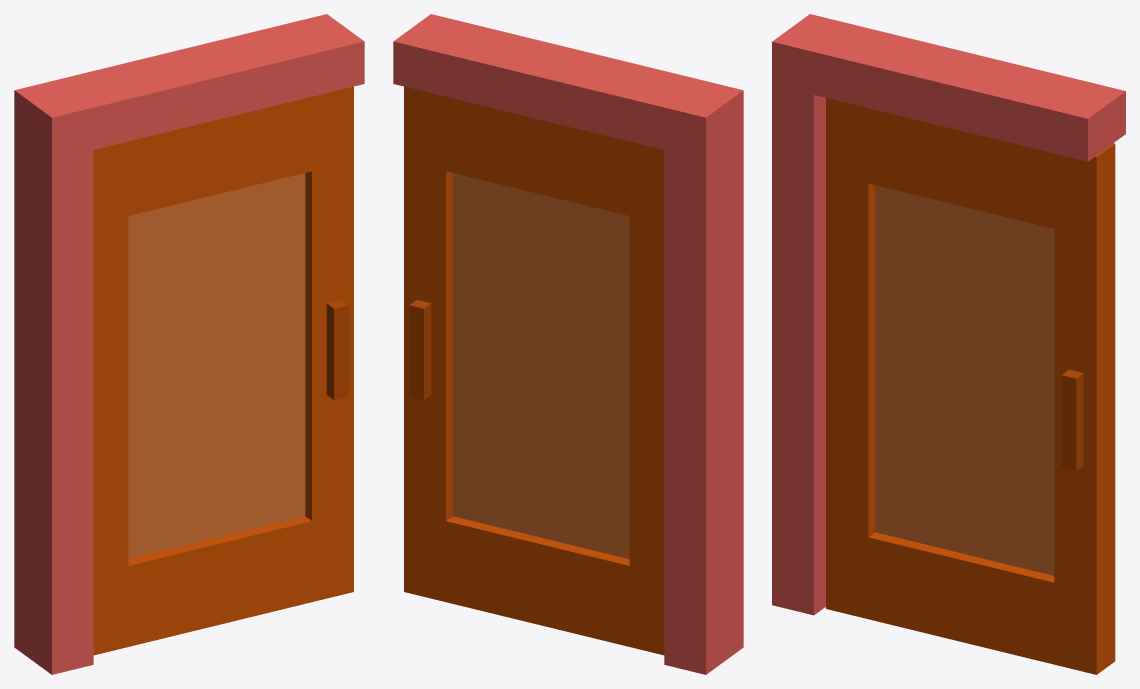
The model's file is Door 1.fbx.
3 renders of one model, left to right at view 1: azimuth 30°, elevation 25°; view 2: azimuth 150°, elevation 25°; view 3: azimuth 330°, elevation 25°, orthographic.
Visible parts, largest first — view 1: Door, Khung; view 2: Door, Khung; view 3: Door, Khung.
Boxes of the visible parts, x1,y1,x2,y2 form: Door: (93, 86, 353, 655); Khung: (14, 14, 364, 674); Door: (404, 86, 664, 655); Khung: (393, 14, 743, 674); Door: (826, 98, 1115, 674); Khung: (772, 14, 1125, 615).
Bounding box in the file's own units: 205 × 350 × 42.7.
